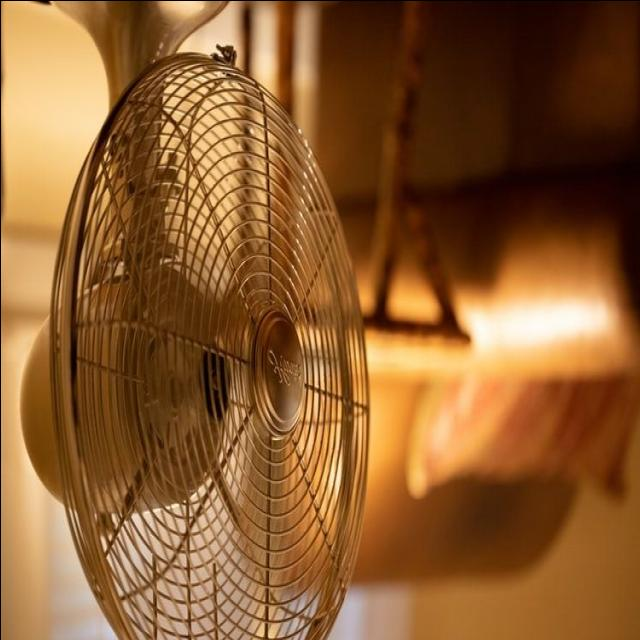fan: (16, 0, 373, 640)
